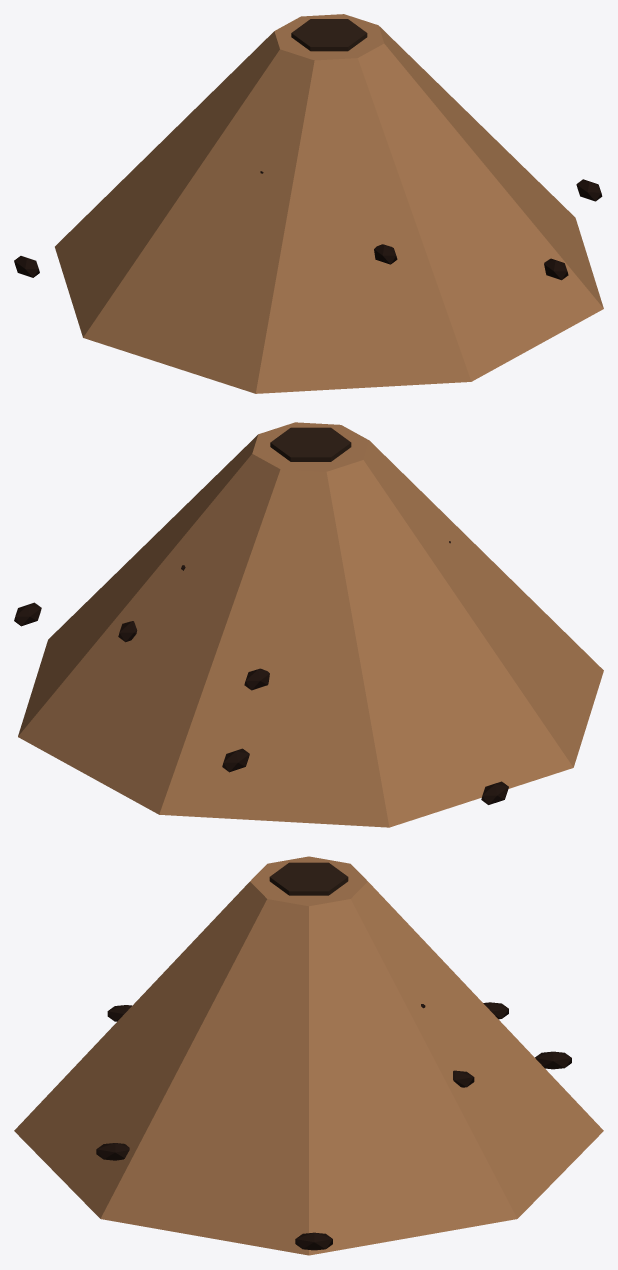
The model's file is formigueiro.glb.
3 views of the same model, one above another, from view 1: azimuth 30°, elevation 25°; view 2: azimuth 150°, elevation 25°; view 3: azimuth 270°, elevation 25° (orthographic). The views are drawn at different scales.
Parts seen in each view (by area): view 1: monte, buraco; view 2: monte, buraco; view 3: monte, buraco, formiga_7.
Boxes of the visible parts, x1,y1,x2,y2 form: monte: [55, 14, 603, 393]; buraco: [291, 19, 367, 51]; monte: [18, 422, 603, 827]; buraco: [270, 427, 351, 461]; monte: [14, 856, 603, 1255]; buraco: [269, 862, 348, 895]; formiga_7: [295, 1232, 332, 1250].
Size of the model in its own units: 1.26 by 0.57 by 1.2.
